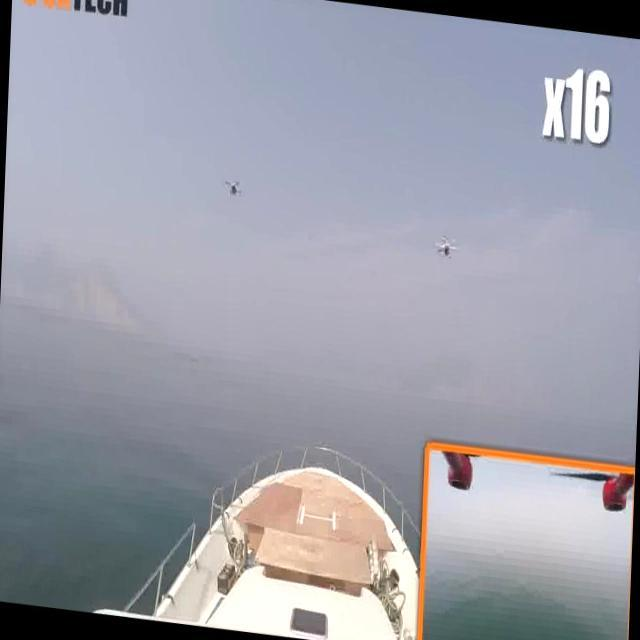drone: (426, 227, 464, 268), (214, 170, 246, 209)
